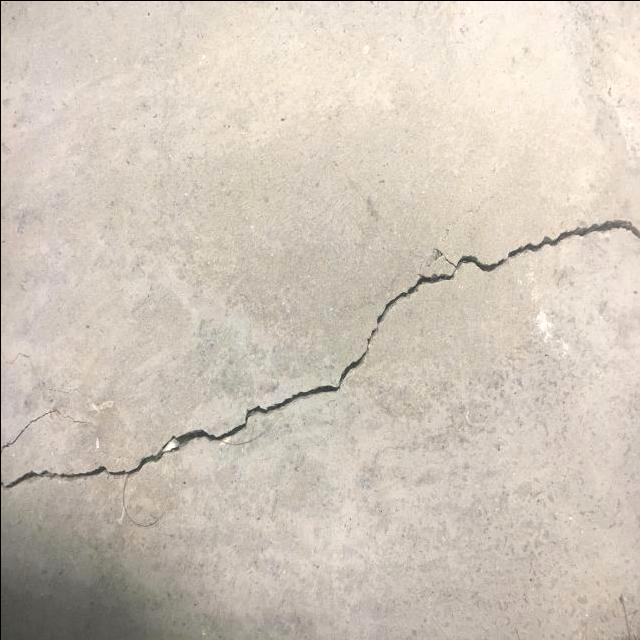SurfaceCrack: (1, 188, 640, 551)
